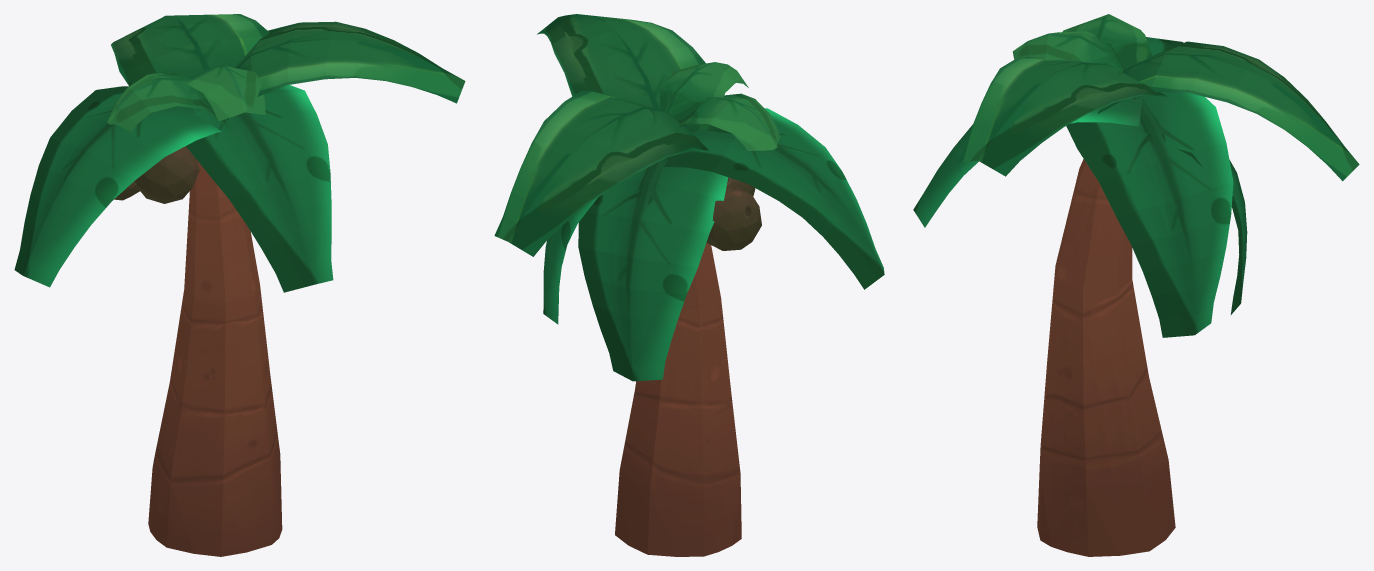
Rendered from palm_tree.gltf.
3 renders of one model, left to right at view 1: azimuth 30°, elevation 25°; view 2: azimuth 150°, elevation 25°; view 3: azimuth 270°, elevation 25°, orthographic. The views are drawn at different scales.
Parts seen in each view (by area): view 1: PalmTreeMesh; view 2: PalmTreeMesh; view 3: PalmTreeMesh.
Part boxes in pixels (x1,y1,x2,y2): PalmTreeMesh: (14,14,465,556); PalmTreeMesh: (494,14,884,556); PalmTreeMesh: (913,14,1359,556).
Size of what is drawn, in the model's own units: 2.56 by 2.95 by 2.38.
Materials: 1 (1 with a texture image).
